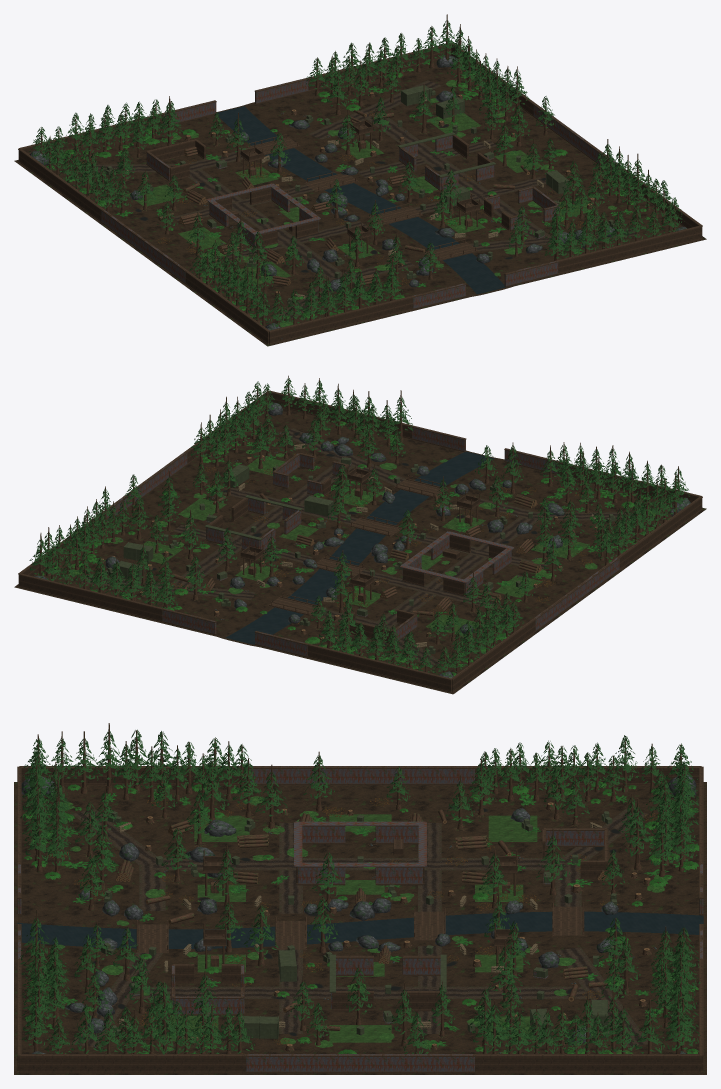
Rendered from Map4_Orman_Kereste_Kampi_5v5v5v5_v3_1.gltf.
3 renders of one model, top to bottom at view 1: azimuth 30°, elevation 25°; view 2: azimuth 150°, elevation 25°; view 3: azimuth 270°, elevation 25°, orthographic. The views are drawn at different scales.
Visible parts, largest first — view 1: Floor_Terrain_ForestGround, Decal_Floor_MudPaths, Wall_Perimeter_South, Water_CreekSurface, Decal_Floor_MossClearings, Wall_Perimeter_West, Wall_Perimeter_North, Wall_Perimeter_East, Wall_Barracks_Main, Wall_Sawmill_MainHall, Wall_LumberShed_NW, Wall_ArmoryShed_SE (+4 smaller); view 2: Floor_Terrain_ForestGround, Decal_Floor_MudPaths, Wall_Perimeter_North, Water_CreekSurface, Decal_Floor_MossClearings, Wall_Perimeter_West, Wall_Perimeter_South, Wall_Perimeter_East, Wall_Barracks_Main, Wall_Sawmill_MainHall, Wall_ArmoryShed_SE, Prop_Sawmill_CanopyEaves (+5 smaller); view 3: Floor_Terrain_ForestGround, Decal_Floor_MudPaths, Wall_Perimeter_East, Water_CreekSurface, Wall_Perimeter_West, Decal_Floor_MossClearings, Wall_Barracks_Main, Wall_Sawmill_MainHall, Wall_ArmoryShed_SE, Prop_Sawmill_CanopyEaves, Wall_LumberShed_NW, Wall_Perimeter_North (+16 smaller).
Boxes of the visible parts, box(x1,y1,x2,y2) form: Floor_Terrain_ForestGround: box(14, 60, 706, 346); Decal_Floor_MudPaths: box(83, 80, 639, 318); Wall_Perimeter_South: box(269, 225, 702, 344); Water_CreekSurface: box(217, 106, 505, 294); Decal_Floor_MossClearings: box(127, 112, 598, 285); Wall_Perimeter_West: box(18, 148, 269, 344); Wall_Perimeter_North: box(18, 43, 451, 155); Wall_Perimeter_East: box(451, 43, 702, 238); Wall_Barracks_Main: box(398, 132, 495, 190); Wall_Sawmill_MainHall: box(209, 187, 318, 247); Wall_LumberShed_NW: box(146, 139, 206, 180); Wall_ArmoryShed_SE: box(483, 186, 559, 230); Floor_Terrain_ForestGround: box(14, 408, 706, 694); Decal_Floor_MudPaths: box(81, 428, 635, 666); Wall_Perimeter_North: box(18, 573, 451, 692); Water_CreekSurface: box(225, 451, 494, 644); Decal_Floor_MossClearings: box(142, 456, 589, 636); Wall_Perimeter_West: box(451, 496, 702, 692); Wall_Perimeter_South: box(269, 390, 702, 503); Wall_Perimeter_East: box(18, 391, 269, 585); Wall_Barracks_Main: box(204, 495, 302, 550); Wall_Sawmill_MainHall: box(402, 535, 511, 596); Wall_ArmoryShed_SE: box(272, 452, 348, 496); Prop_Sawmill_CanopyEaves: box(400, 531, 513, 583); Floor_Terrain_ForestGround: box(14, 782, 706, 1074); Decal_Floor_MudPaths: box(71, 808, 648, 1046); Wall_Perimeter_East: box(19, 1054, 701, 1073); Water_CreekSurface: box(17, 911, 703, 948); Wall_Perimeter_West: box(19, 766, 701, 784); Decal_Floor_MossClearings: box(170, 814, 537, 1042); Wall_Barracks_Main: box(329, 954, 446, 1011); Wall_Sawmill_MainHall: box(296, 826, 424, 885); Wall_ArmoryShed_SE: box(171, 964, 244, 1015); Prop_Sawmill_CanopyEaves: box(294, 821, 426, 866); Wall_LumberShed_NW: box(542, 828, 608, 879); Wall_Perimeter_North: box(699, 766, 703, 1072).
Bounding box in the file's own units: 100 × 11.62 × 100.
19 materials, 19 textured.
